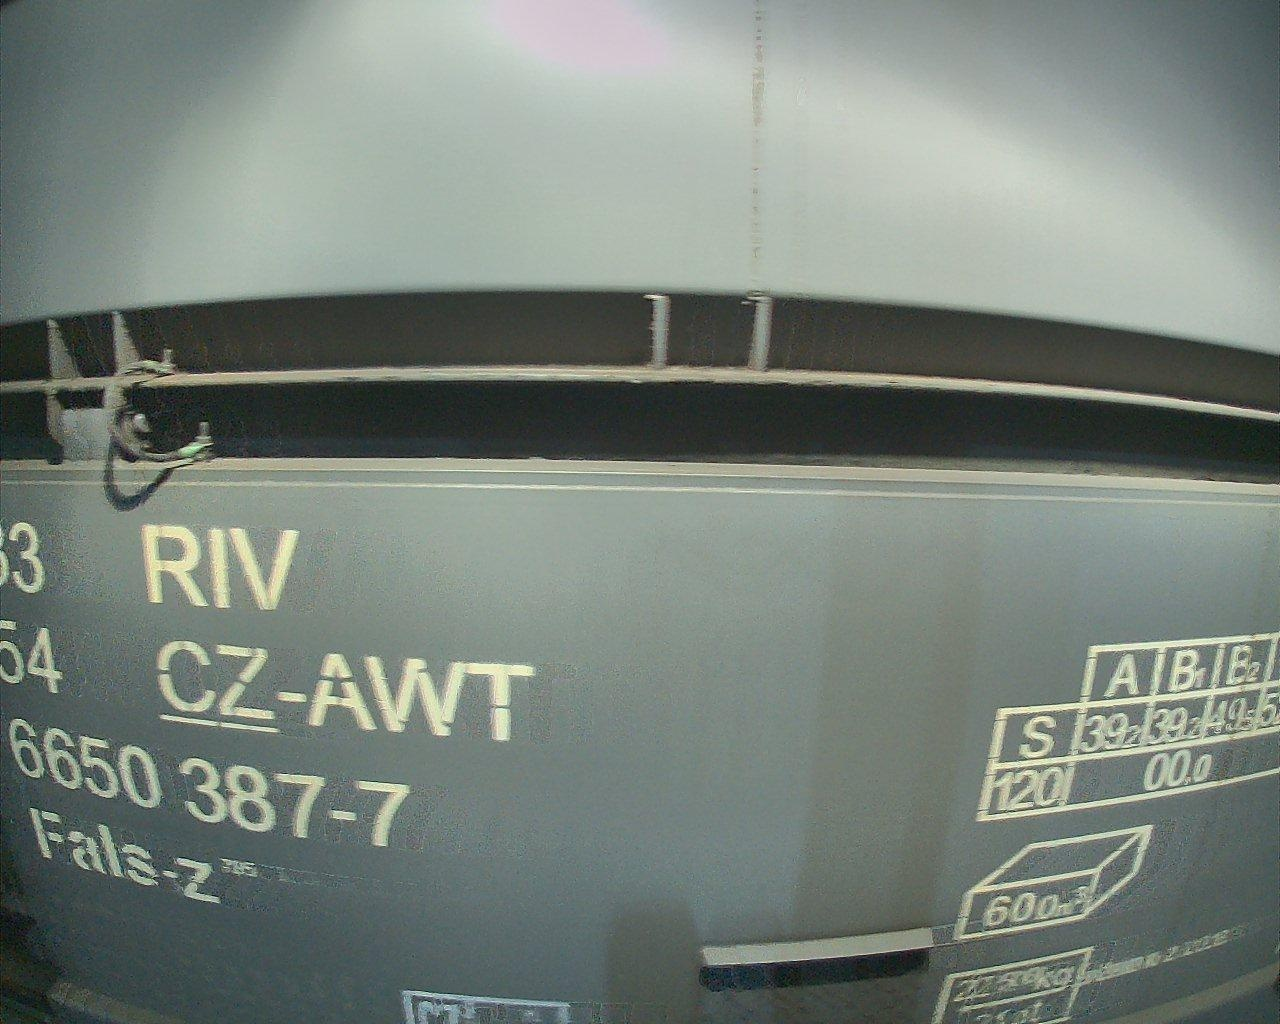UIC: (1, 516, 539, 914)
